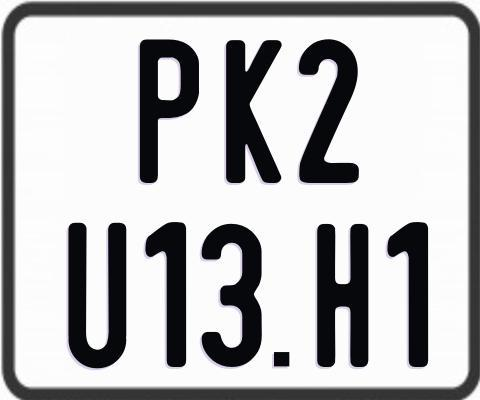1: (385, 222, 429, 373), (144, 220, 189, 367)
2: (297, 38, 362, 187)
3: (201, 222, 265, 367)
H: (317, 221, 372, 368)
K: (225, 39, 287, 182)
P: (137, 39, 200, 183)
U: (68, 221, 128, 370)
